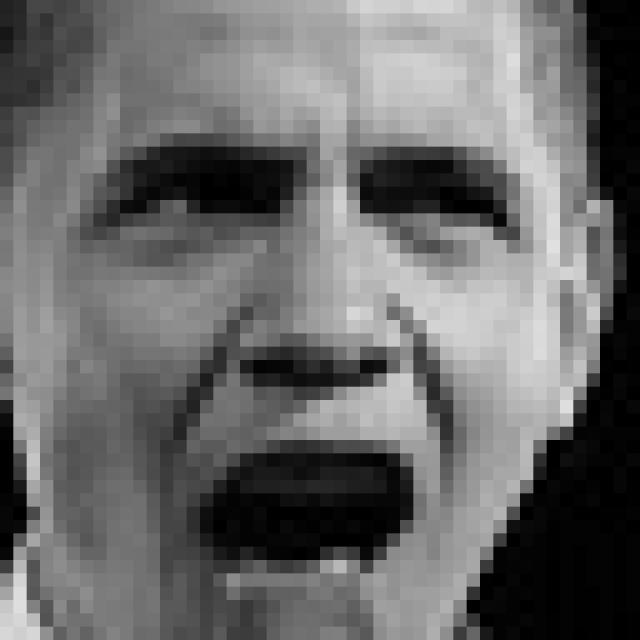angry: (95, 128, 529, 587)
